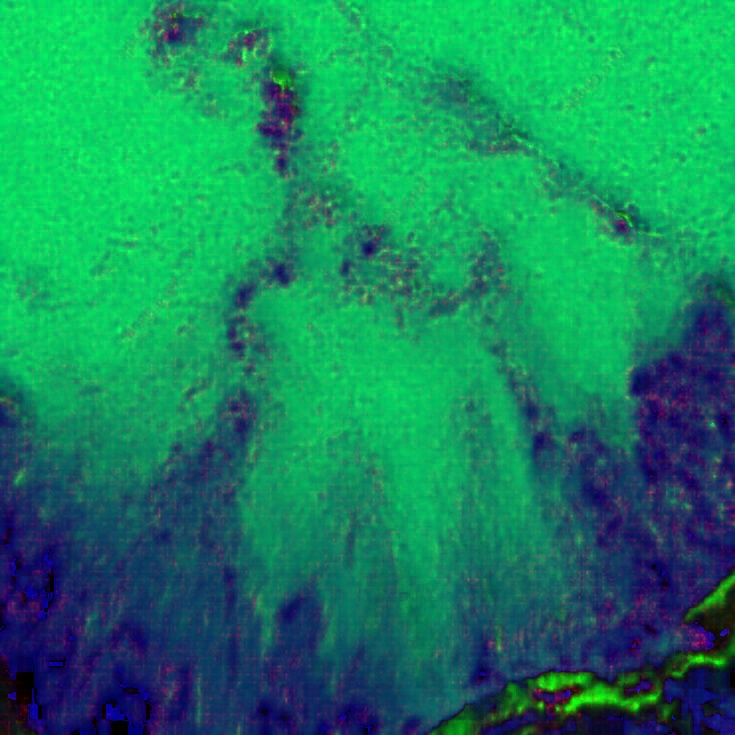rip_current: (258, 184, 526, 633)
